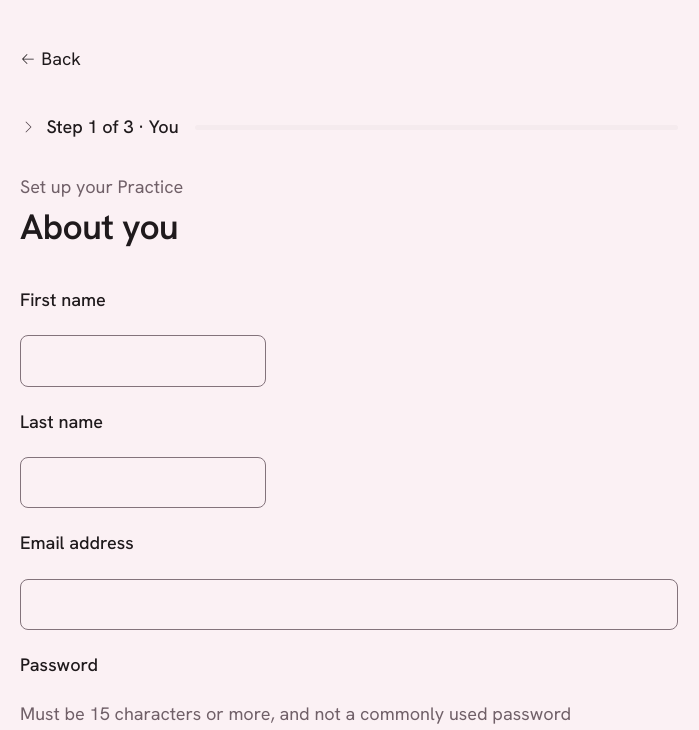
Test: the first page: about you › refuses a password of 14 characters
The image size is (699, 730).
Step 1. Type "Priya" into the field labelled "First name" → (143, 361), box left=20, top=335, right=266, bottom=386
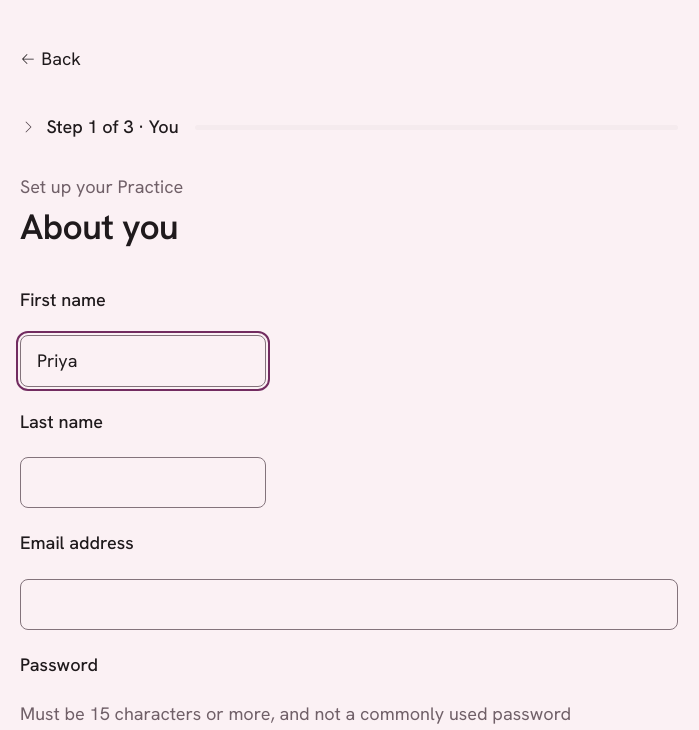
Step 2. Type "Sharma" into the field labelled "Last name" → (143, 483), box left=20, top=457, right=266, bottom=508
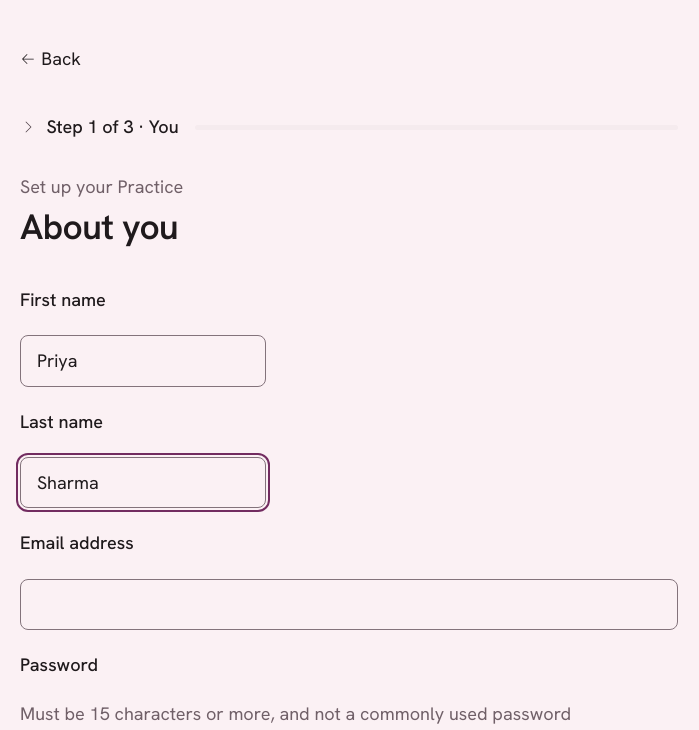
Step 3. Type "priya@example.com" into the field labelled "Email address" → (349, 604), box left=20, top=579, right=678, bottom=630
(page scrolled)
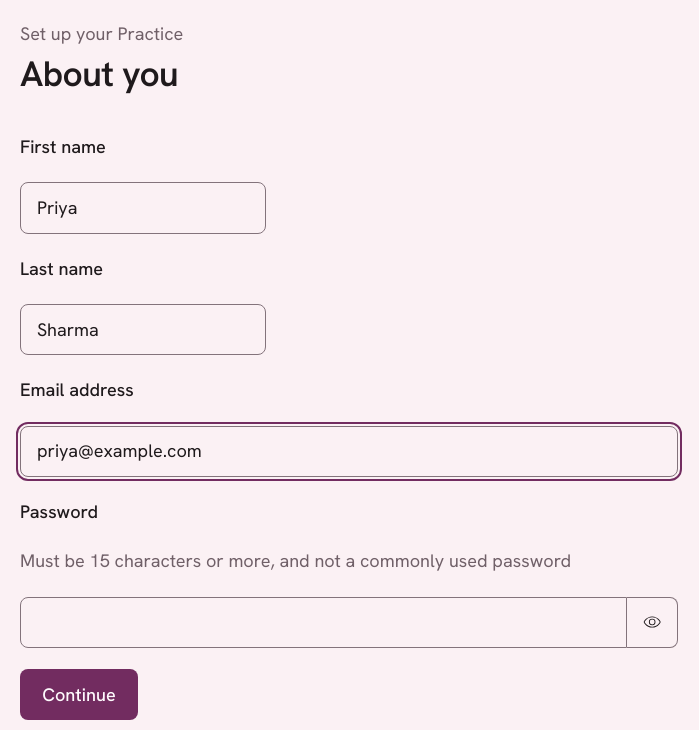
Step 4. Type "aaaaaaaaaaaaaa" into the password field labelled "Password" → (323, 622), box left=20, top=597, right=627, bottom=648
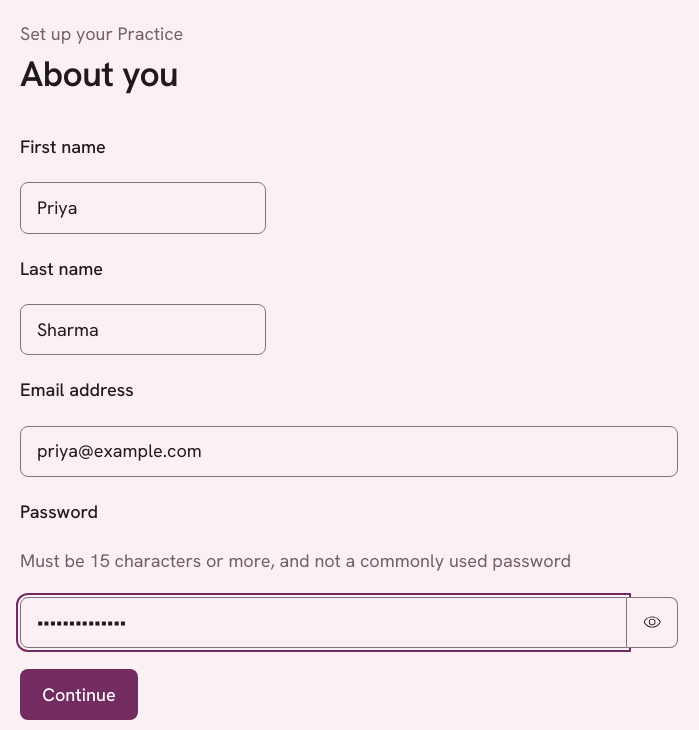
Step 5. Click the button "Continue" → (79, 695), box left=20, top=669, right=138, bottom=720
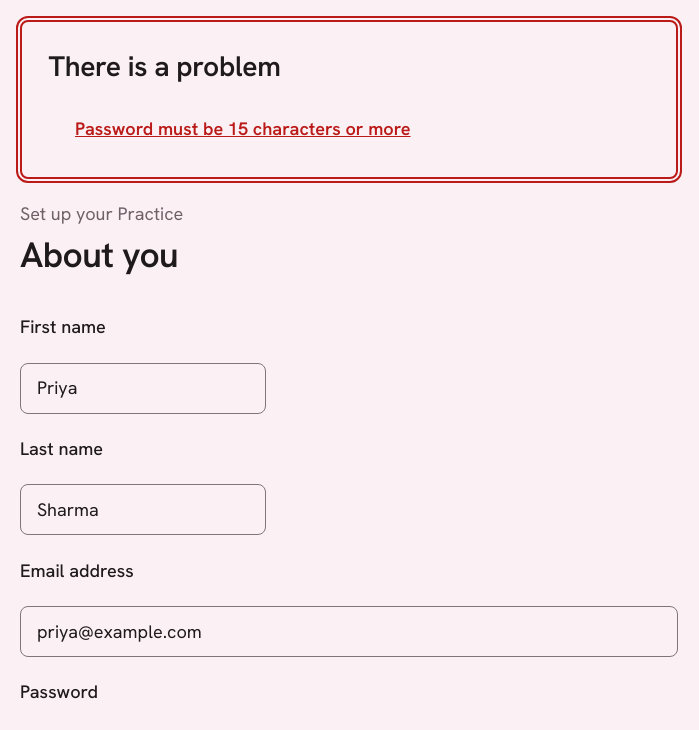
Now the link "Password must be 15 characters or more" is shown, box left=75, top=117, right=410, bottom=140
